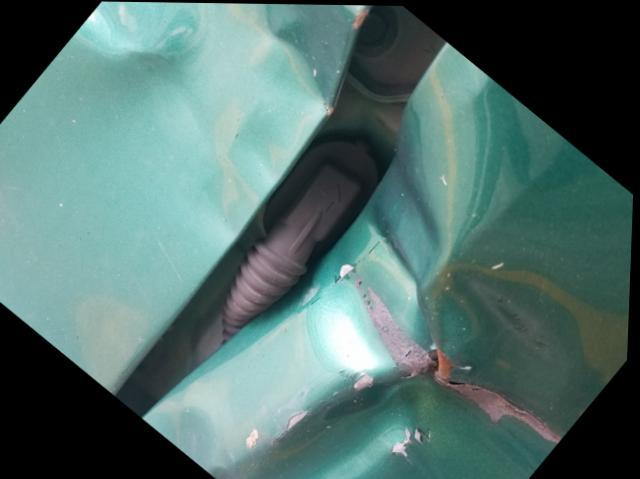dent: (232, 102, 610, 479), (74, 1, 351, 249)
